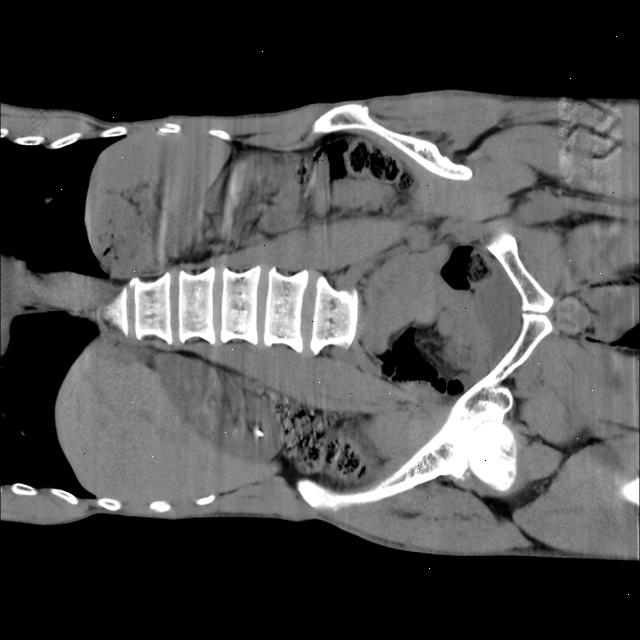kidneystone: (252, 426, 264, 436)
